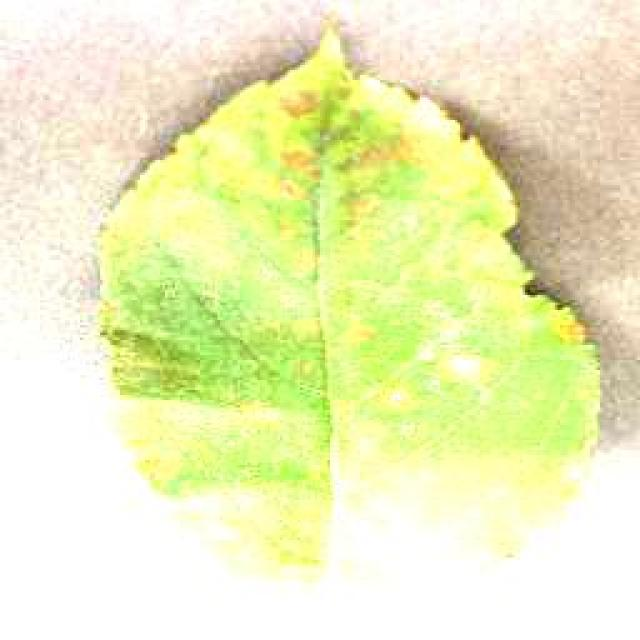apple cedar apple rust: (93, 18, 605, 582)
